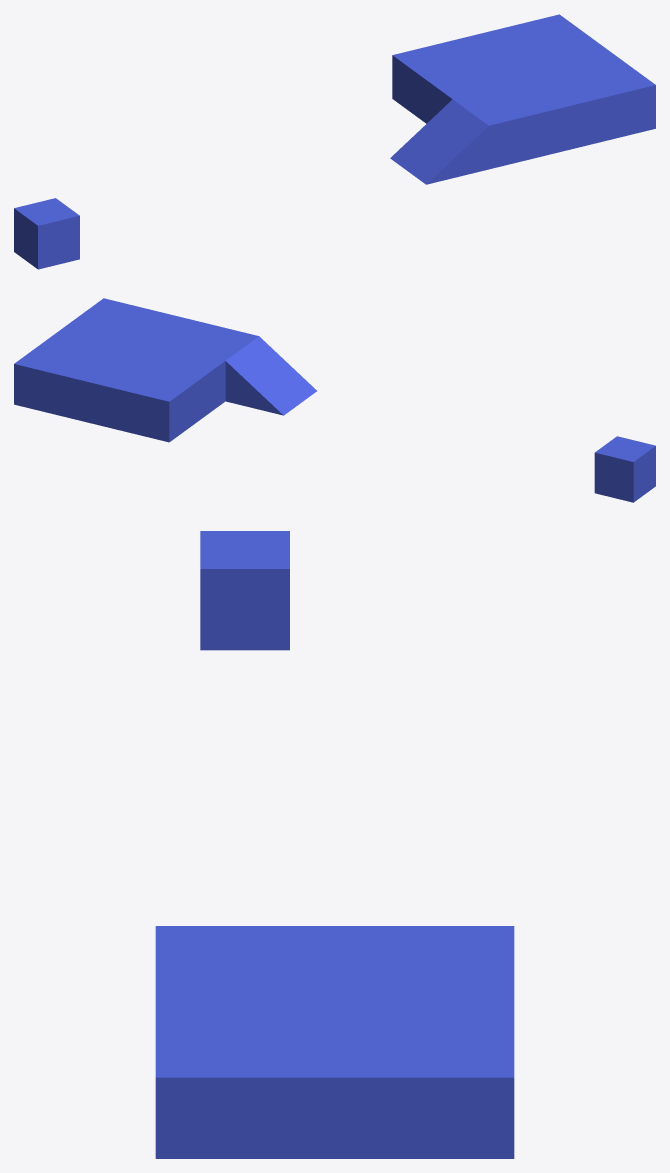
File: test_map.gltf
3 renders of one model, top to bottom at view 1: azimuth 30°, elevation 25°; view 2: azimuth 150°, elevation 25°; view 3: azimuth 270°, elevation 25°, orthographic. The views are drawn at different scales.
Visible parts, largest first — view 1: Ramp, Box; view 2: Ramp, Box; view 3: Ramp, Box.
Boxes of the visible parts, x1,y1,x2,y2 form: Ramp: (390, 14, 655, 184); Box: (14, 198, 79, 269); Ramp: (14, 298, 316, 442); Box: (594, 436, 655, 502); Ramp: (155, 926, 514, 1158); Box: (200, 531, 289, 650).
Size of what is drawn, in the model's own units: 29 by 2.09 by 8.
